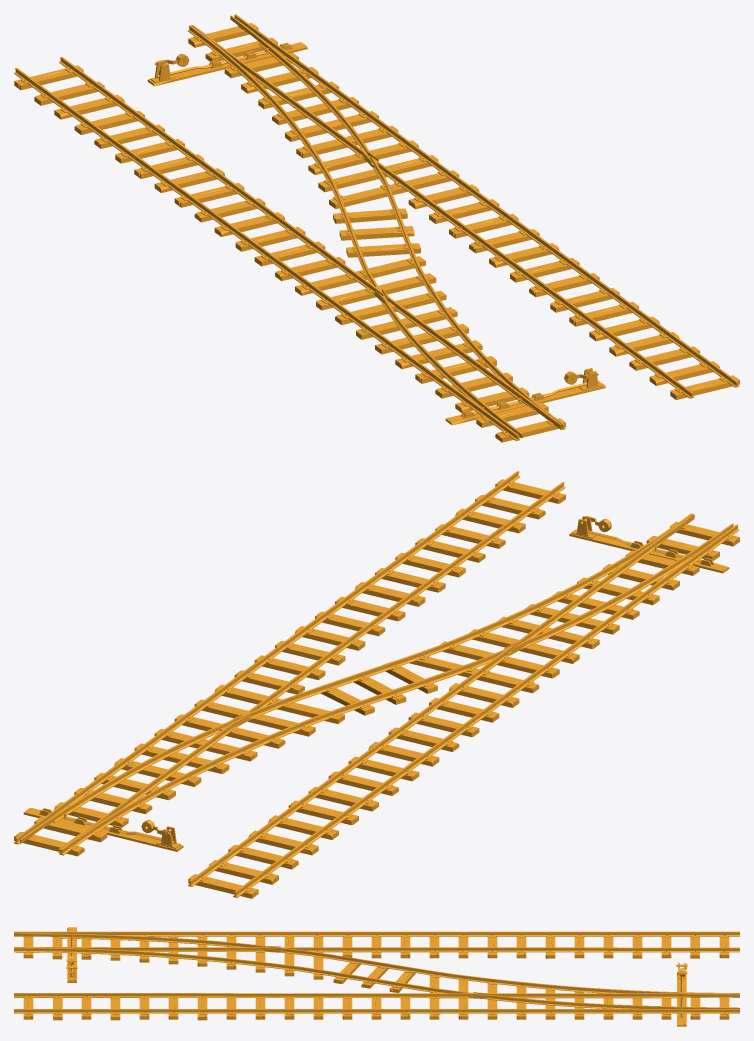
File: SM_Train_Rail_Switch_Double_Old.fbx
The picture shows the model from 3 angles, top to bottom: view 1: azimuth 30°, elevation 25°; view 2: azimuth 150°, elevation 25°; view 3: azimuth 270°, elevation 25°; orthographic projection. The views are drawn at different scales.
Visible parts, largest first — view 1: SM_Train_Rail_Switch_Double_Old; view 2: SM_Train_Rail_Switch_Double_Old; view 3: SM_Train_Rail_Switch_Double_Old.
Part boxes in pixels (x1=…): SM_Train_Rail_Switch_Double_Old: x1=14, y1=14, x2=739, y2=442; SM_Train_Rail_Switch_Double_Old: x1=14, y1=471, x2=739, y2=898; SM_Train_Rail_Switch_Double_Old: x1=14, y1=927, x2=739, y2=1026.
Size of the model in its own units: 9.58 by 0.7202 by 30.
